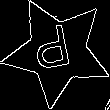P_S: (34, 23, 80, 80)
